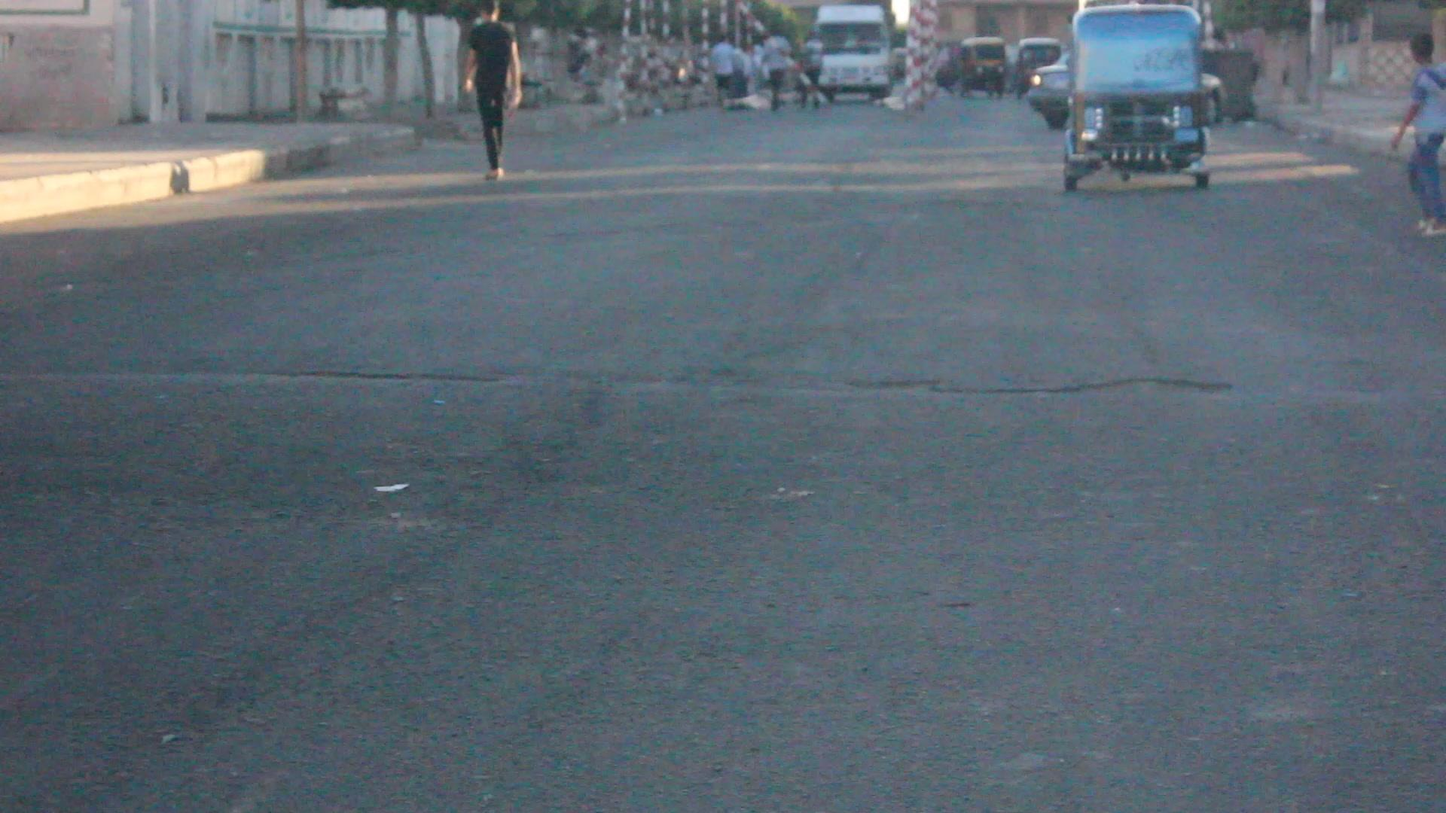Bump: (9, 390, 1446, 512)
Pothole: (821, 363, 990, 408), (1081, 373, 1258, 408)
